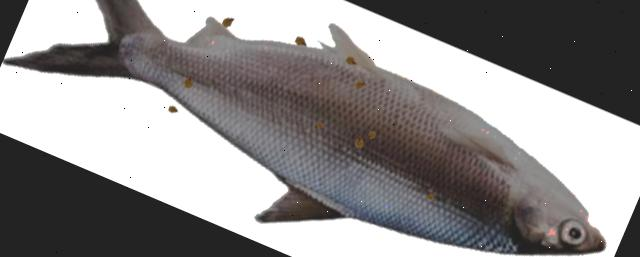Parasitic Disease: (4, 0, 604, 253)
